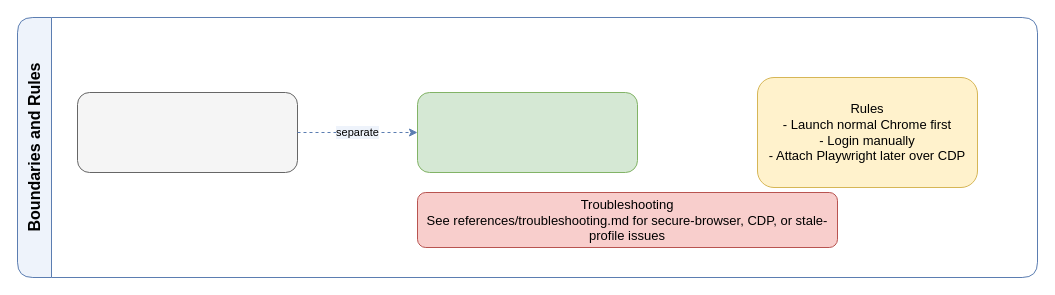
Image size: 1055x295. Some labels were removed from this diagram. Here are the shapes that lost their labels. From the top down, the centre of each, then its label:
[187,132]: Main daily Chrome profile Human browsing only
[527,132]: Dedicated automation profile Separate from the user's main browser
